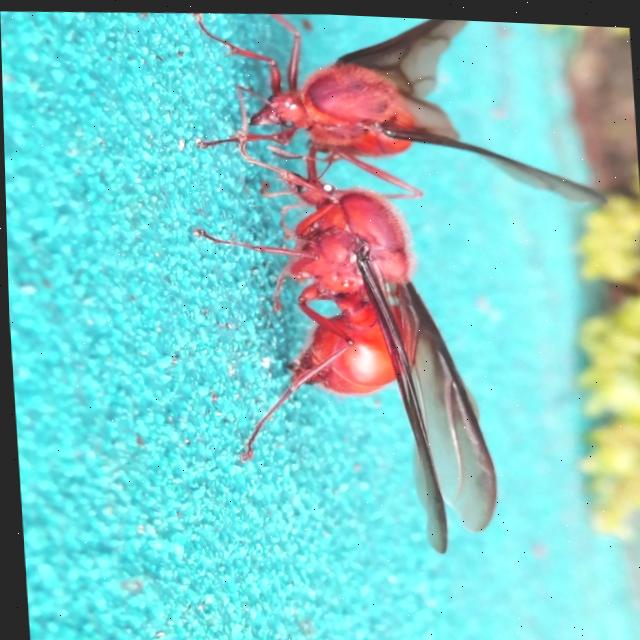Alive-Male-Alate: (182, 72, 499, 560), (186, 6, 609, 227)
